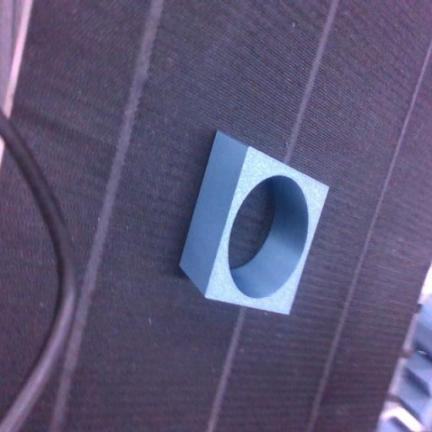hole: (180, 131, 327, 314)
